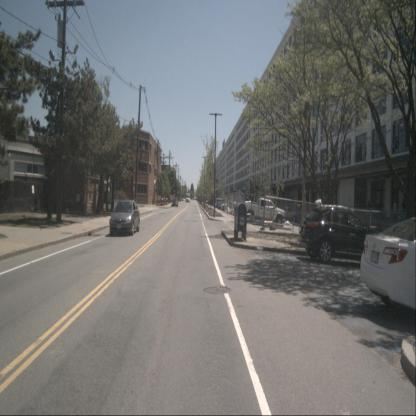human-pedestrian-adult: (393, 200, 397, 222), (402, 198, 406, 218)
vehicle-car: (359, 215, 416, 315), (299, 204, 386, 265), (109, 199, 140, 236), (221, 201, 236, 212), (215, 198, 227, 209), (172, 198, 178, 207)
vehicle-truck: (243, 198, 286, 226), (275, 206, 297, 222), (186, 193, 190, 203)
